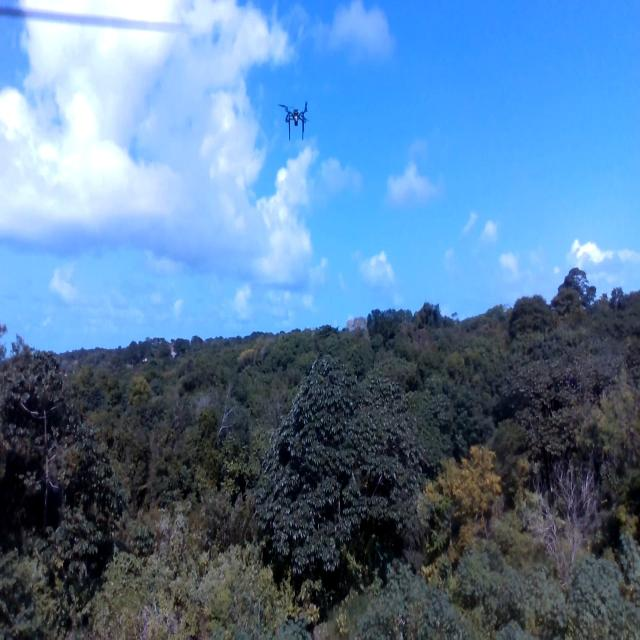-uav-: (275, 95, 316, 145)
